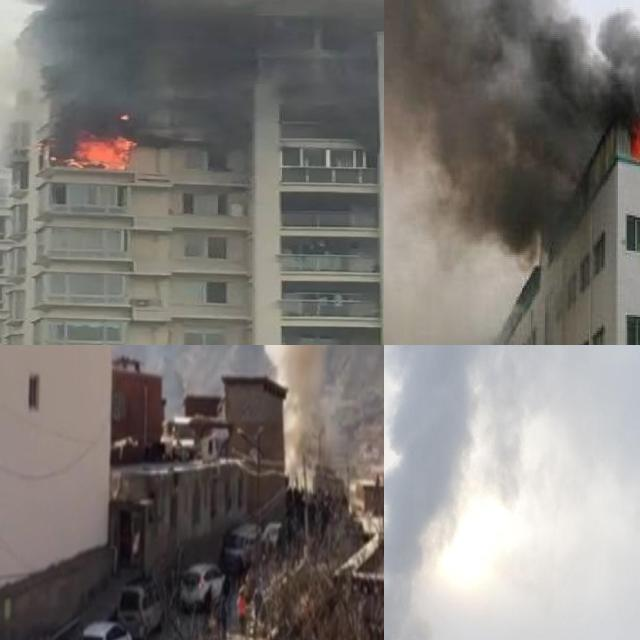fire: (50, 125, 141, 171), (630, 122, 640, 158)
smoke: (384, 345, 592, 640), (384, 0, 609, 257), (20, 0, 384, 126), (250, 345, 372, 488), (595, 7, 640, 137)
